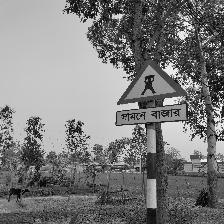Market-in-front: (115, 59, 190, 126)
